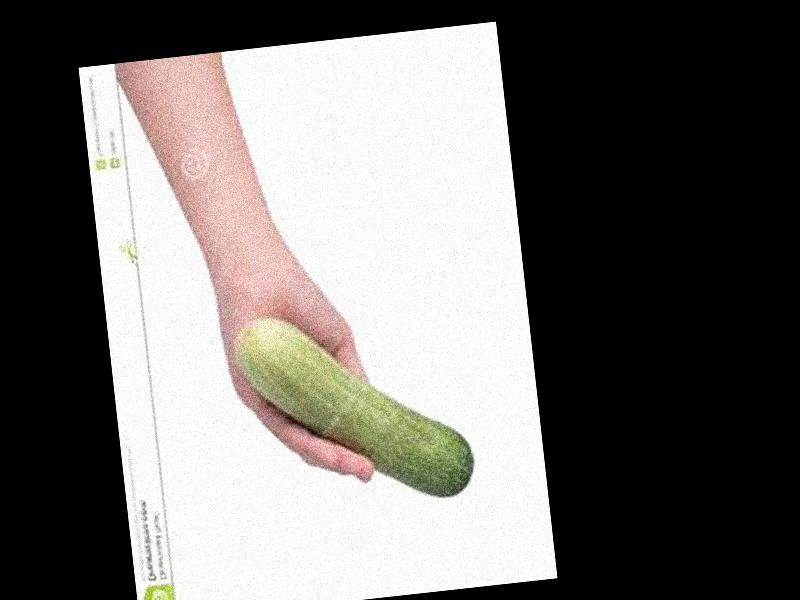Cucumber: (233, 297, 475, 515)
